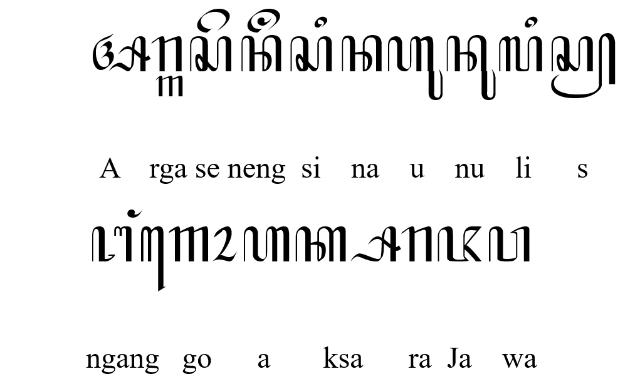-s: (550, 33, 616, 99)
A: (91, 33, 150, 73)
_s: (350, 227, 402, 264)
e: (196, 8, 230, 32)
e1: (140, 227, 166, 294)
eng: (246, 8, 280, 34)
g: (168, 226, 210, 262), (156, 75, 184, 97)
h: (242, 226, 290, 262)
hu: (386, 35, 444, 101)
i: (524, 15, 538, 29), (314, 16, 328, 29)
j: (436, 226, 482, 262)
k: (295, 227, 347, 264)
l: (498, 36, 544, 72)
n: (240, 35, 282, 73), (340, 34, 382, 72)
ng: (127, 210, 143, 218)
nga: (90, 226, 132, 262)
nu: (446, 34, 496, 102)
o: (211, 226, 237, 262)
r: (401, 227, 433, 264), (151, 36, 183, 72)
s: (189, 35, 233, 73), (290, 36, 334, 72)
w: (488, 226, 530, 264)
